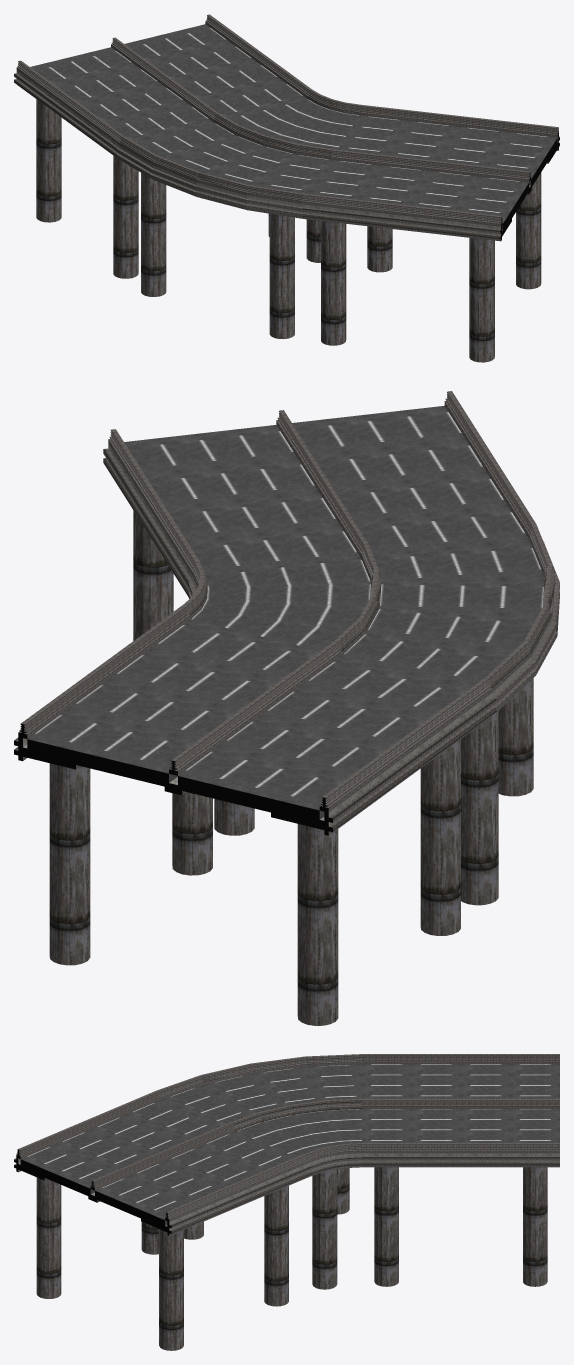
Rendered from Highway45_high.fbx.
The picture shows the model from 3 angles, top to bottom: view 1: azimuth 30°, elevation 25°; view 2: azimuth 150°, elevation 25°; view 3: azimuth 270°, elevation 25°; orthographic projection. The views are drawn at different scales.
Visible parts, largest first — view 1: materialA150, materialD150, materialC150, materialB150; view 2: materialD150, materialA150, materialB150, materialC150; view 3: materialA150, materialD150, materialC150, materialB150.
Boxes of the visible parts, x1=… form: materialA150: x1=14, y1=14, x2=559, y2=362; materialD150: x1=30, y1=24, x2=556, y2=229; materialC150: x1=16, y1=70, x2=558, y2=235; materialB150: x1=500, y1=128, x2=559, y2=240; materialD150: x1=27, y1=405, x2=544, y2=819; materialA150: x1=14, y1=391, x2=559, y2=1025; materialB150: x1=14, y1=532, x2=530, y2=835; materialC150: x1=23, y1=444, x2=554, y2=825; materialA150: x1=14, y1=1054, x2=559, y2=1350; materialD150: x1=21, y1=1064, x2=559, y2=1225; materialC150: x1=18, y1=1153, x2=559, y2=1230; materialB150: x1=14, y1=1149, x2=171, y2=1235.
Bounding box in the file's own units: 99.42 × 41.6 × 141.
